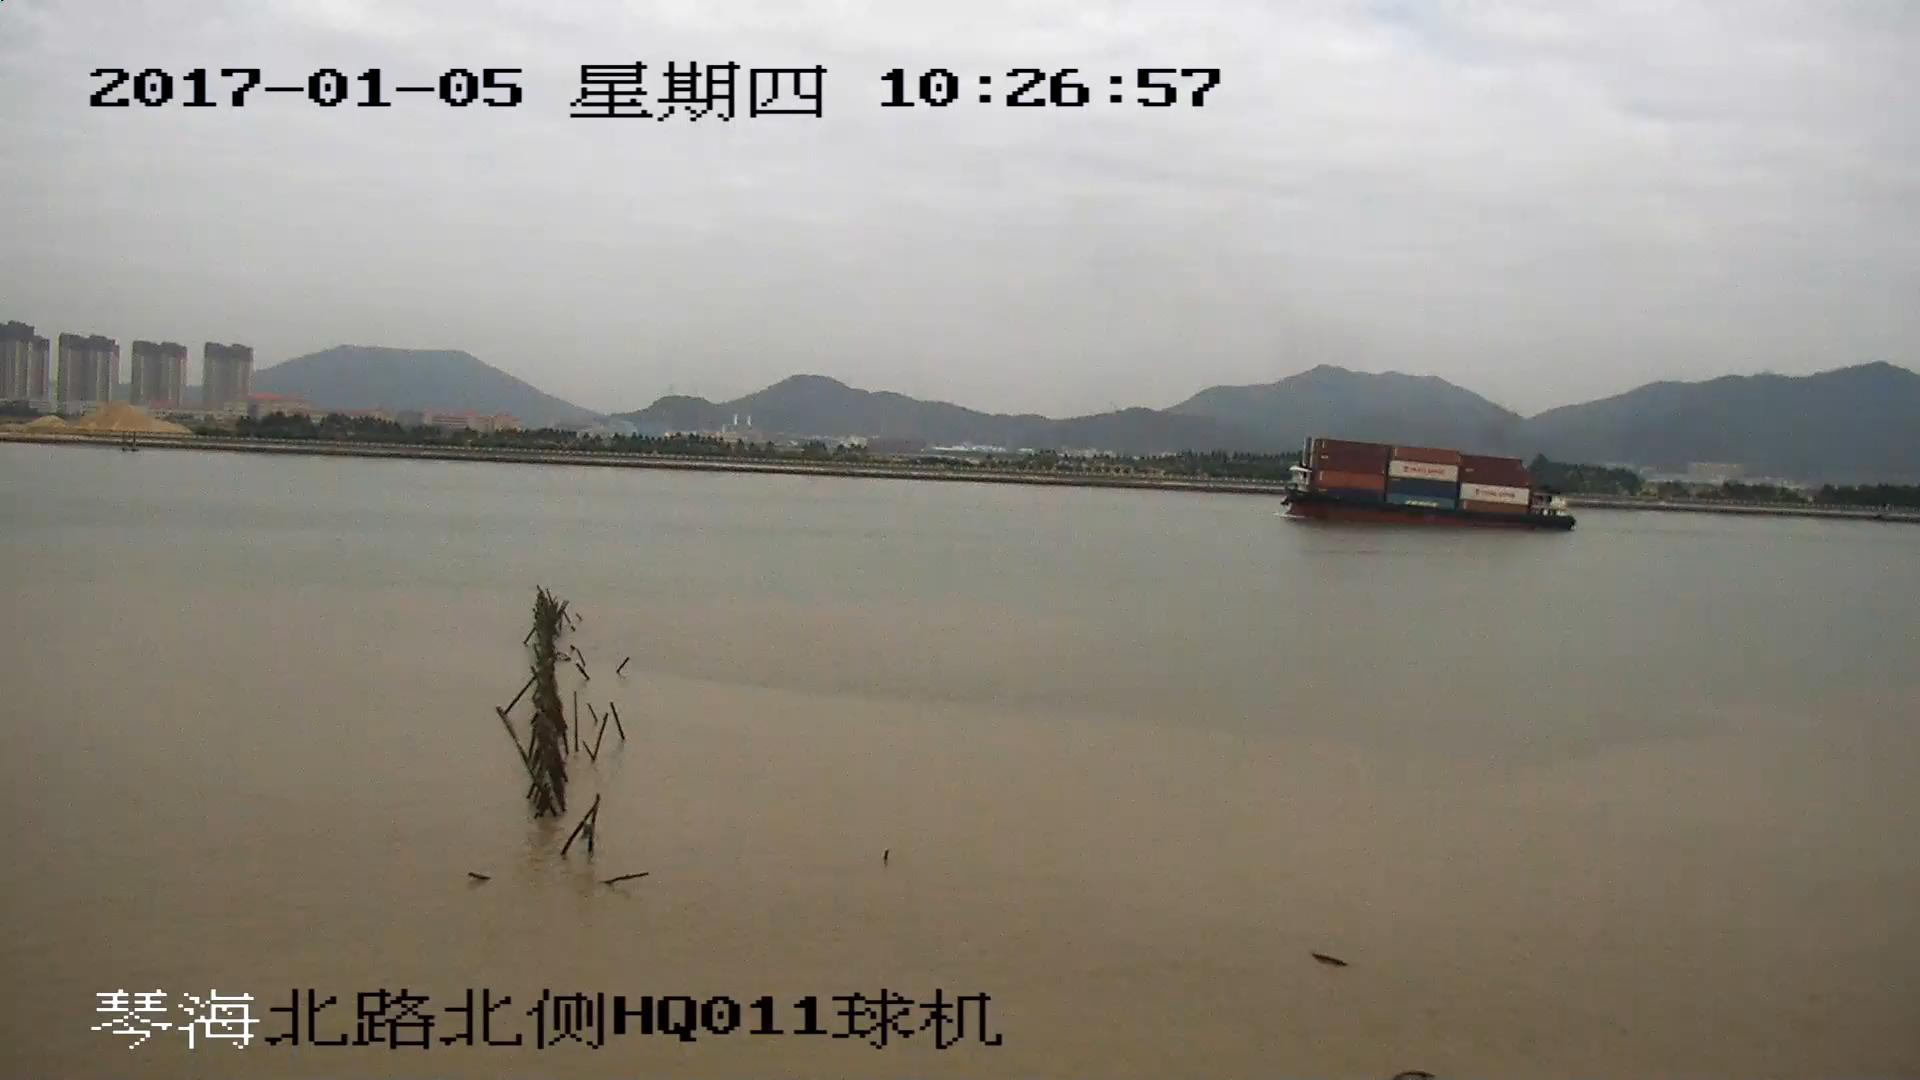Ship: (1276, 444, 1581, 530)
